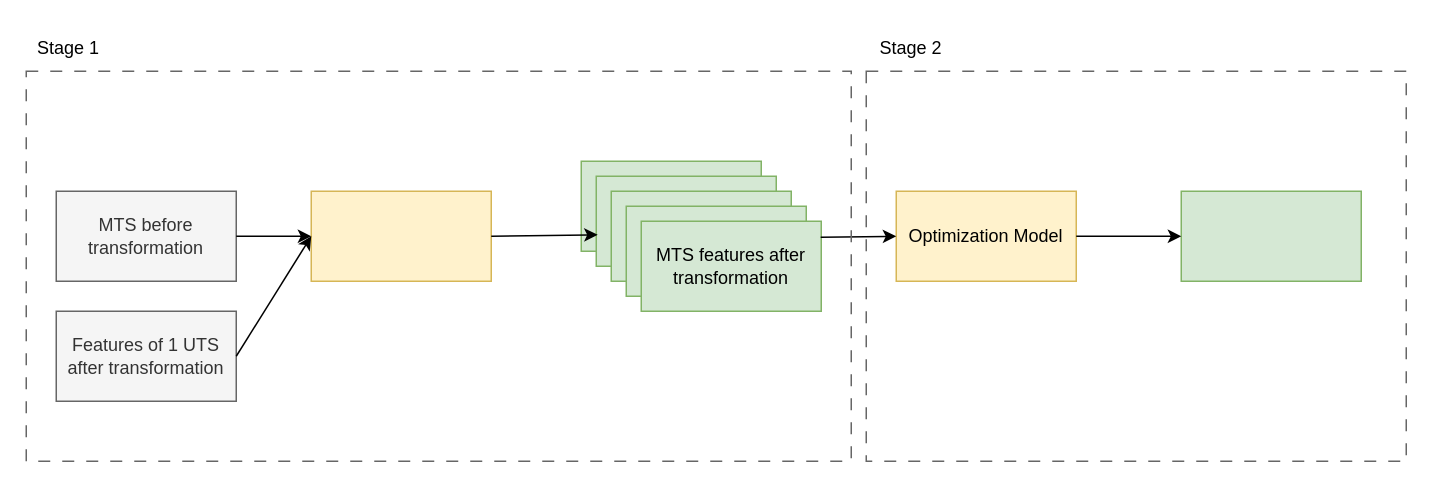
Image size: 1433x488. Some labels were removed from this diagram. Each missing label, with the centre of its shape:
Feature Model: the point at 400,235
MTS after transformation: the point at 1270,235
